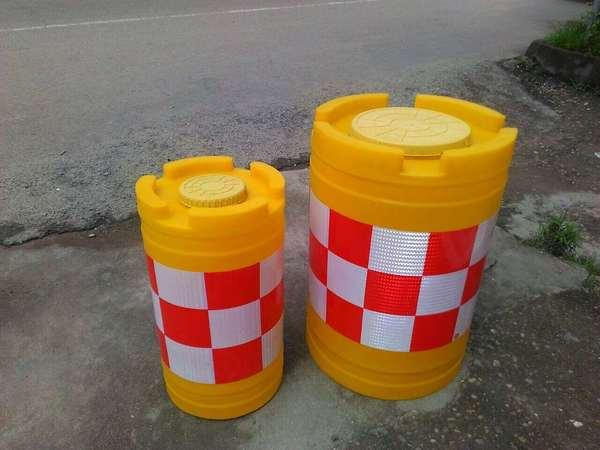sign: (301, 82, 518, 404), (130, 144, 290, 422)
